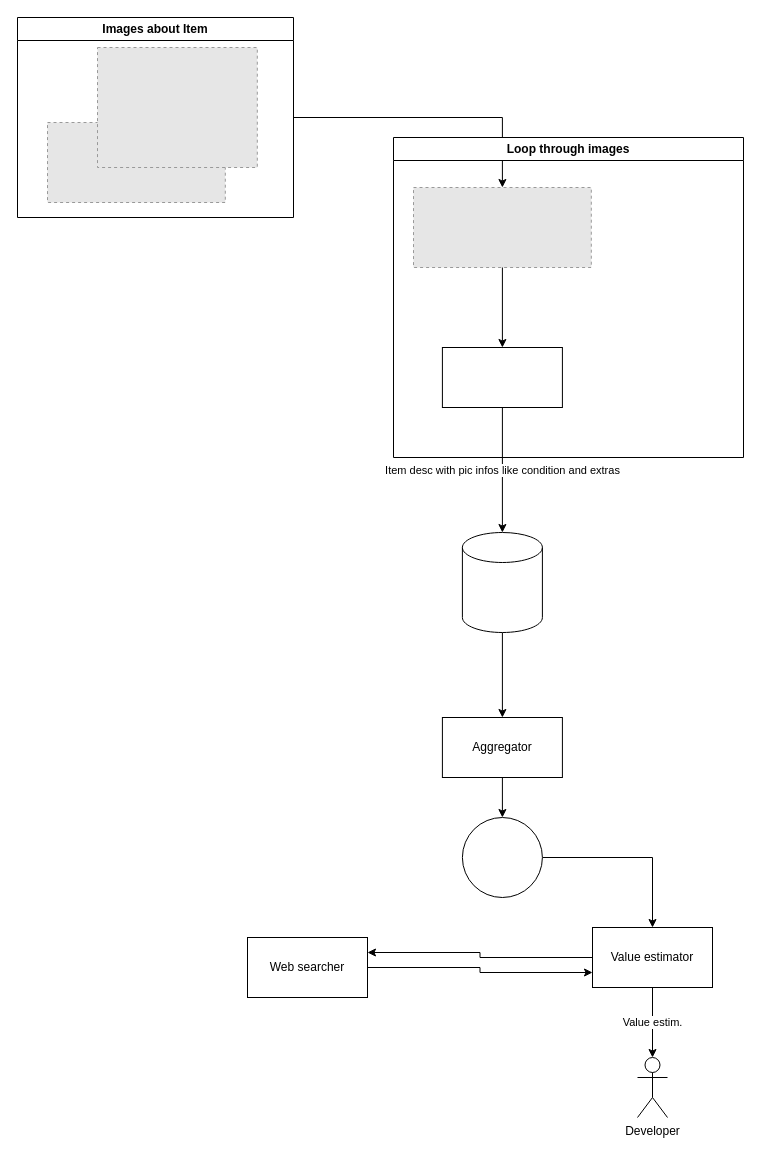
Image size: 761x1156. Some labels were removed from this diagram. Grey dashed boxes stand in for pictures. The centre of each missing label's shape, as x and y in pixels:
Descriptor VLM: (501,377)
Visual description: (501,857)
Visual descriptions: (501,582)
